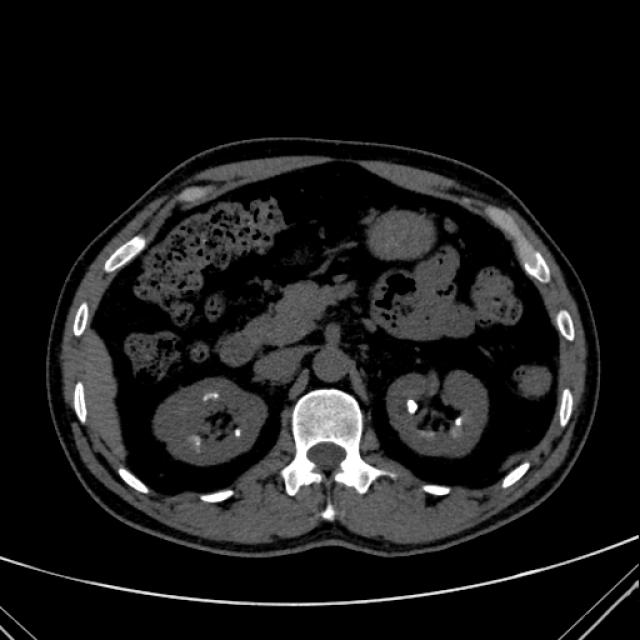kidneystone: (408, 399, 419, 414), (202, 394, 219, 401), (455, 416, 461, 426), (234, 429, 241, 437)
